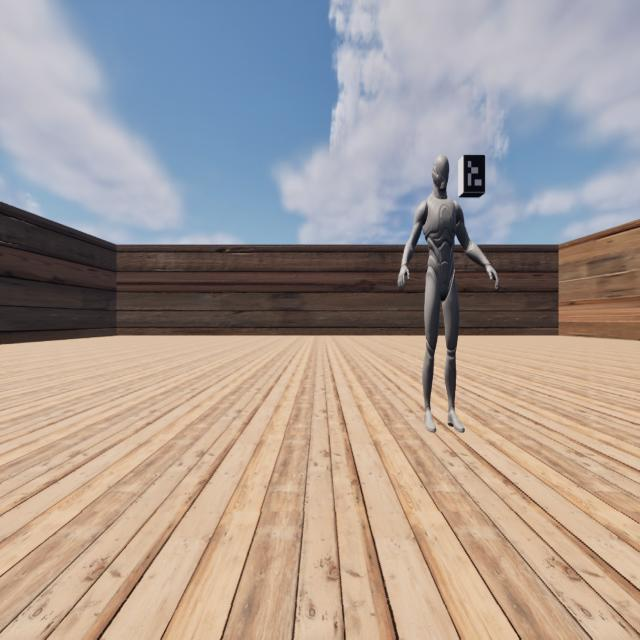aruco: (464, 155, 485, 191)
hip: (426, 271, 456, 281)
